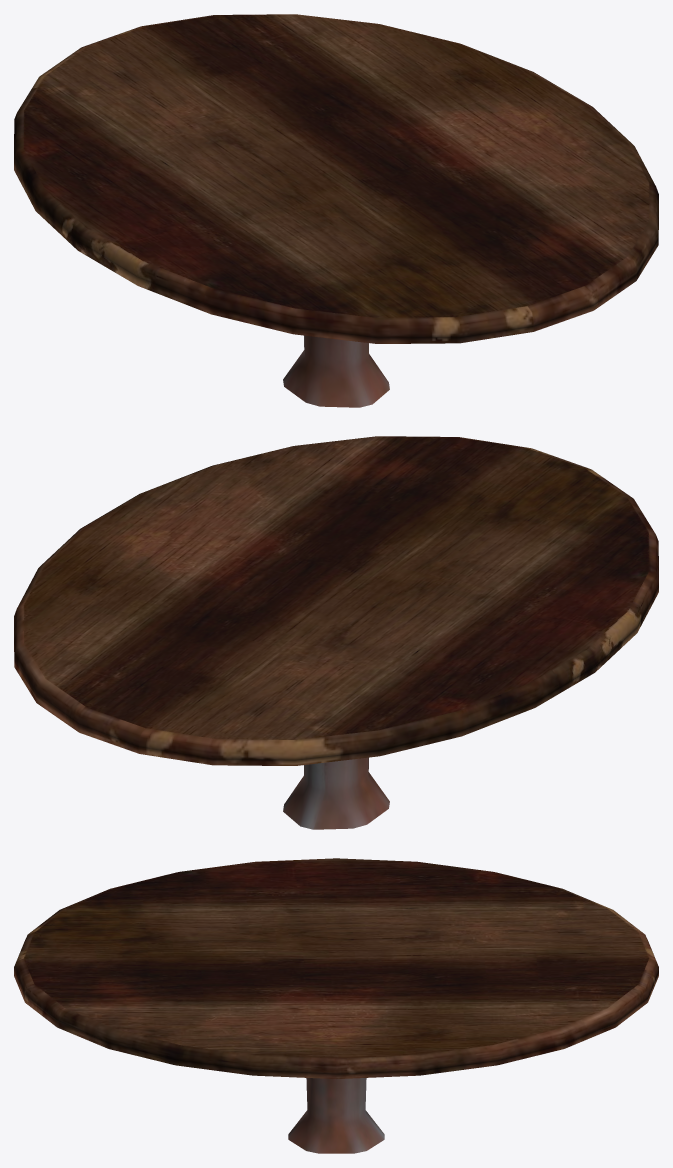
Rendered from bowl_table.glb.
3 renders of one model, top to bottom at view 1: azimuth 30°, elevation 25°; view 2: azimuth 150°, elevation 25°; view 3: azimuth 270°, elevation 25°, orthographic. The views are drawn at different scales.
Visible parts, largest first — view 1: bowl_table; view 2: bowl_table; view 3: bowl_table.
Part boxes in pixels (bbox=[...]): bowl_table: bbox=[14, 14, 658, 407]; bowl_table: bbox=[14, 436, 658, 829]; bowl_table: bbox=[14, 858, 658, 1153].
Size of the model in its own units: 1.02 by 0.4134 by 1.35.
Materials: 1 (1 with a texture image).
